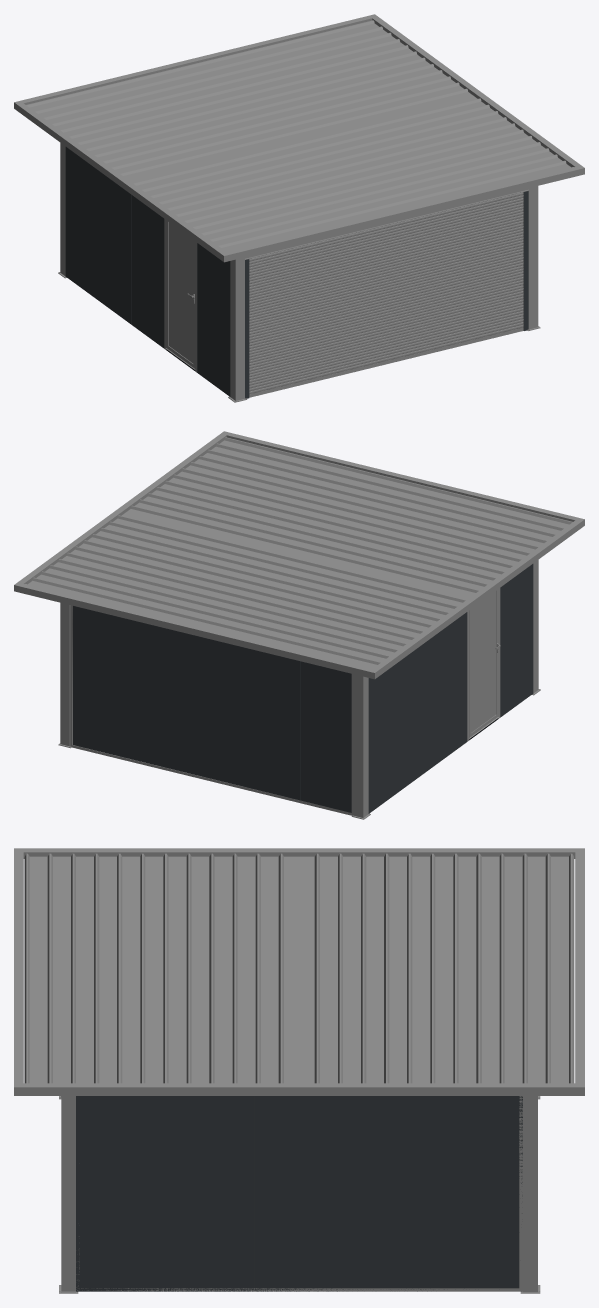
3 renders of one model, top to bottom at view 1: azimuth 30°, elevation 25°; view 2: azimuth 150°, elevation 25°; view 3: azimuth 270°, elevation 25°, orthographic. The views are drawn at different scales.
Visible parts, largest first — view 1: Line002, Shape3968, Plane001, Rectangle020, Rectangle008, Rectangle003, Rectangle001, Rectangle011, Line008, Rectangle007, Box002, Rectangle004 (+2 smaller); view 2: Line002, Plane003, Plane001, Rectangle020, Rectangle008, Rectangle004, Rectangle018, Rectangle005, Rectangle007, Rectangle003, Rectangle006; view 3: Line002, Plane002, Rectangle020, Rectangle005, Rectangle001, Rectangle009, Plane004.
Part boxes in pixels (box(x1,y1,x2,y2)): Line002: box(26, 20, 573, 251); Shape3968: box(249, 192, 523, 394); Plane001: box(65, 147, 230, 396); Rectangle020: box(14, 14, 584, 262); Rectangle008: box(169, 222, 193, 363); Rectangle003: box(230, 257, 244, 400); Rectangle001: box(528, 186, 538, 329); Rectangle011: box(249, 327, 523, 397); Line008: box(245, 188, 528, 259); Rectangle007: box(166, 220, 195, 368); Box002: box(523, 191, 528, 330); Rectangle004: box(60, 143, 65, 276); Line002: box(25, 437, 572, 668); Plane003: box(73, 606, 351, 812); Plane001: box(368, 564, 533, 813); Rectangle020: box(14, 431, 584, 679); Rectangle008: box(471, 591, 495, 732); Rectangle004: box(354, 674, 368, 817); Rectangle018: box(70, 605, 353, 815); Rectangle005: box(60, 602, 70, 746); Rectangle007: box(469, 589, 498, 737); Rectangle003: box(533, 560, 538, 693); Rectangle006: box(467, 588, 500, 741); Line002: box(24, 853, 573, 1083); Plane002: box(76, 1096, 522, 1291); Rectangle020: box(14, 848, 584, 1095); Rectangle005: box(523, 1096, 537, 1291); Rectangle001: box(61, 1096, 75, 1291); Rectangle009: box(76, 1096, 522, 1291); Plane004: box(23, 859, 575, 1083).
Bounding box in the file's own units: 5950 × 2607 × 6000.
Materials: 7 (2 with a texture image).
